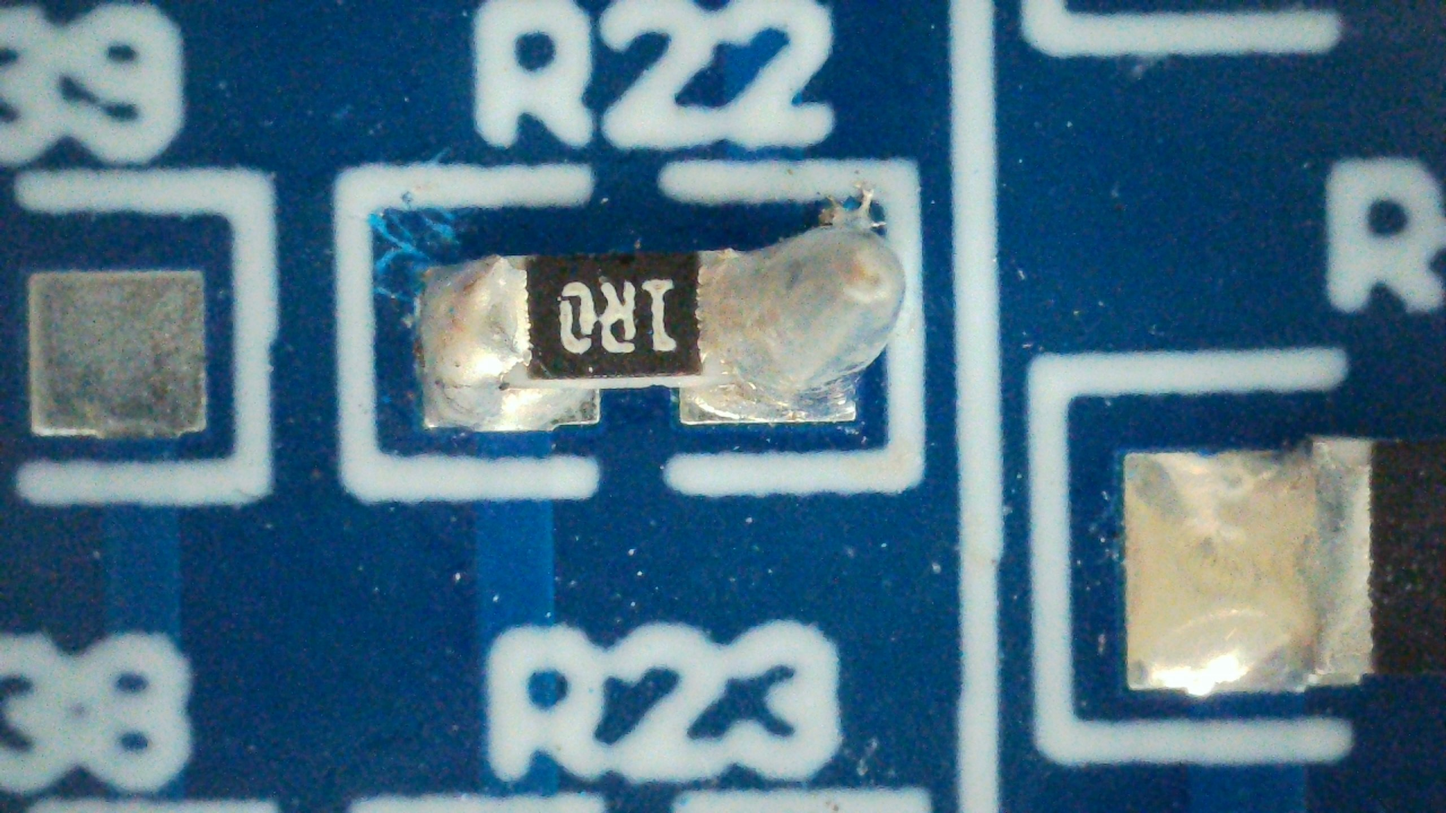OK: (425, 191, 904, 430)
